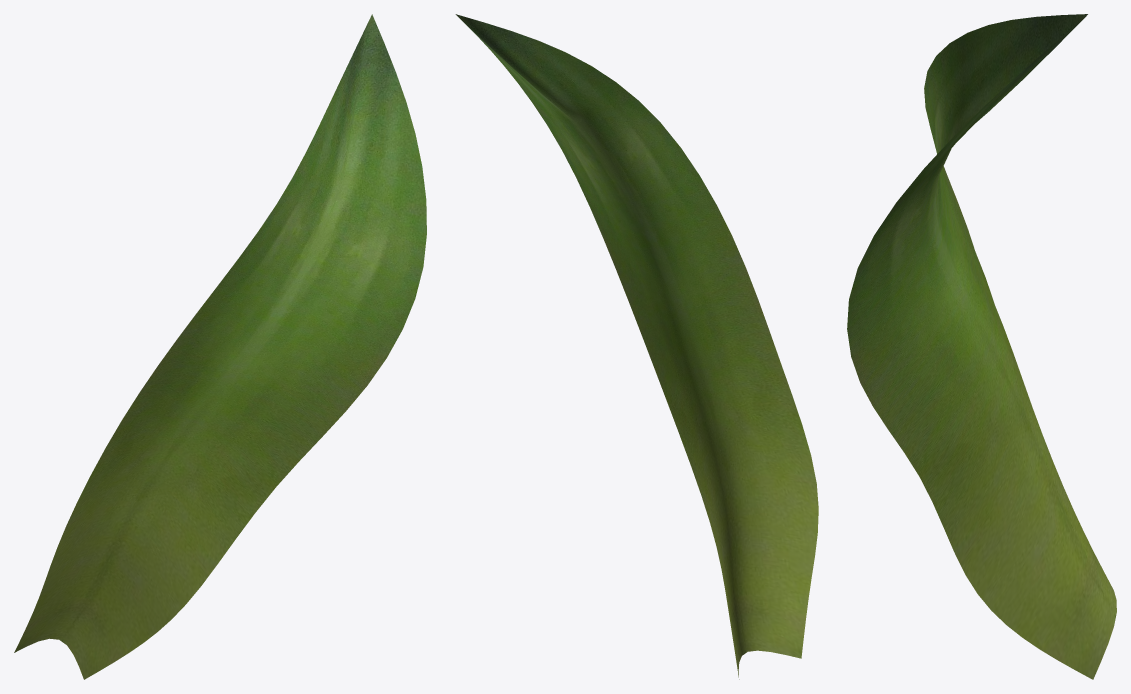
3 renders of one model, left to right at view 1: azimuth 30°, elevation 25°; view 2: azimuth 150°, elevation 25°; view 3: azimuth 270°, elevation 25°, orthographic. The views are drawn at different scales.
Visible parts, largest first — view 1: indoor plant_02.006; view 2: indoor plant_02.006; view 3: indoor plant_02.006.
Boxes of the visible parts, x1,y1,x2,y2 form: indoor plant_02.006: (14,14,426,679); indoor plant_02.006: (455,14,818,679); indoor plant_02.006: (847,14,1116,679).
Bounding box in the file's own units: 0.8054 × 1.3 × 0.366.
1 material, 1 textured.
